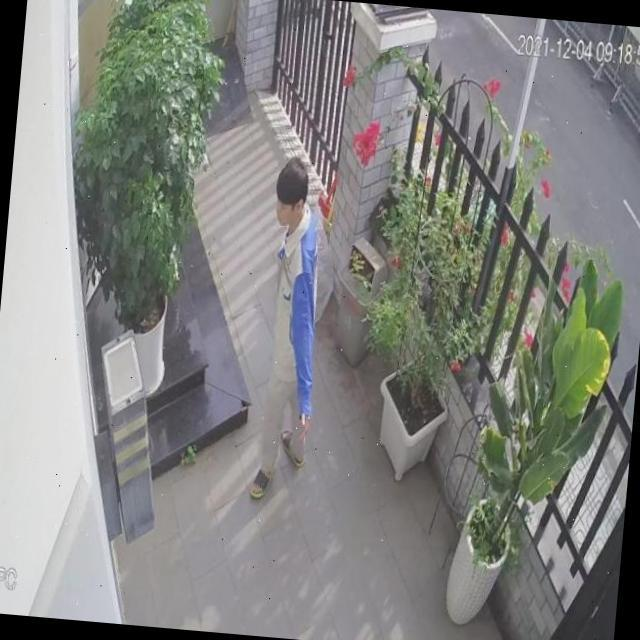person: (249, 155, 333, 502)
